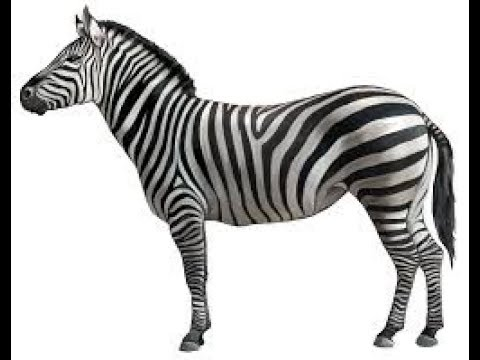zebra: (19, 6, 458, 356)
